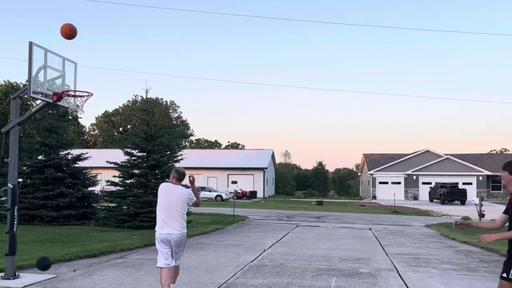ball: (60, 24, 77, 40), (36, 256, 51, 272)
human: (453, 161, 512, 288), (154, 167, 200, 288)
rim: (62, 90, 93, 116)
